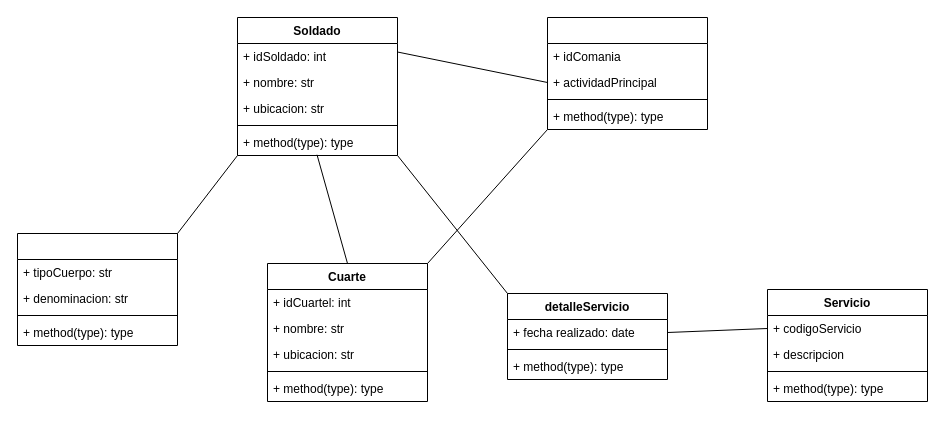
Image size: 945x422. Some labels were removed from this diagram. The shapes that lost their labels are listed below. From the top down, each one's box as (x1, y1, x2, y2) in pixels, then its label:
(546, 16, 708, 130): Compania
(16, 232, 178, 346): CuerpoEjercito
